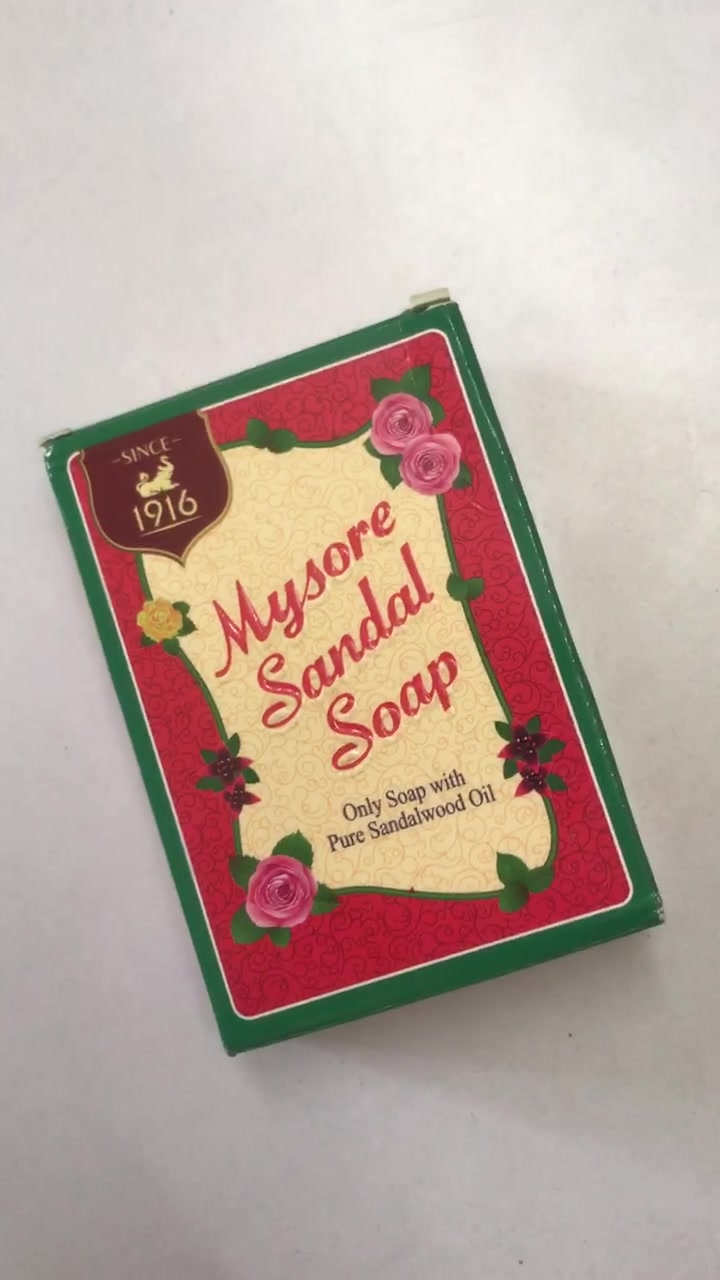mysore sandal soap: (44, 293, 662, 1057)
